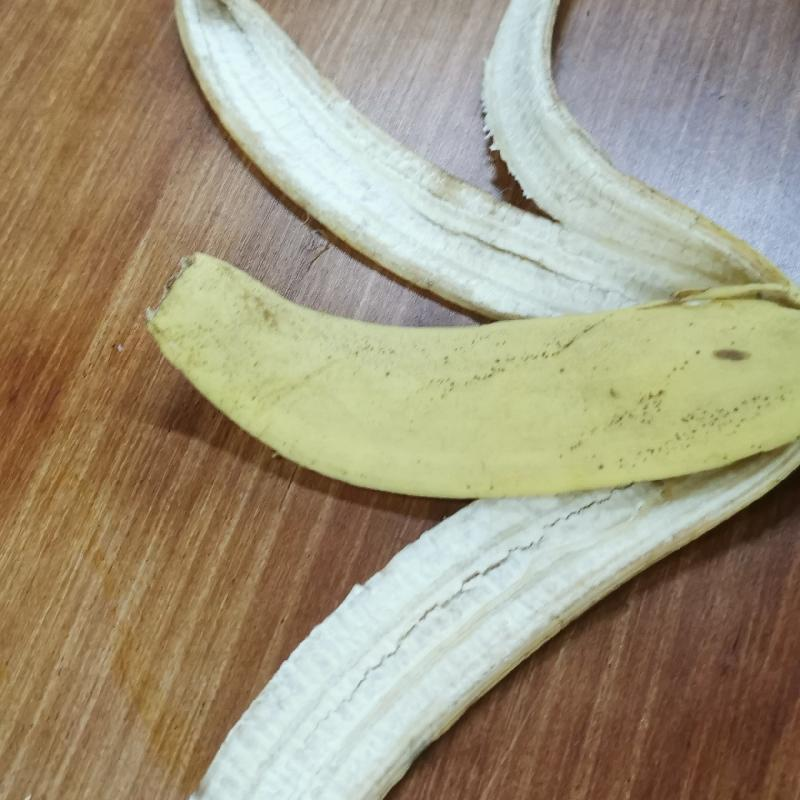bananas: (144, 2, 800, 799)
